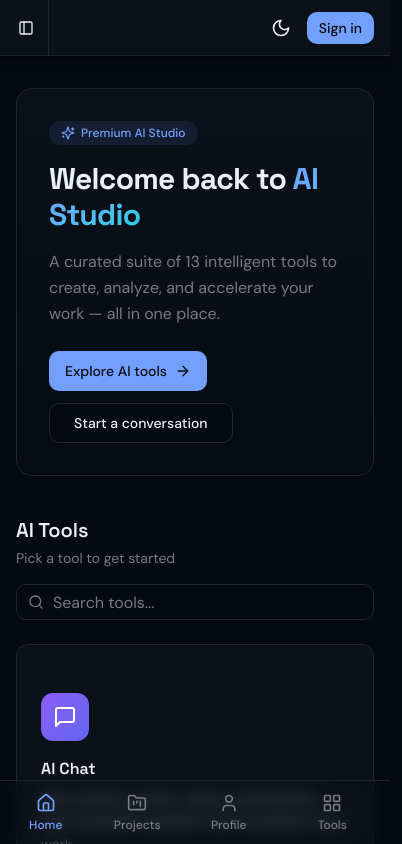
Scenario: Navigation › mobile bottom navigation reaches Home, Projects, and Profile
Expected: the navigation bar with test id "mobile_nav" is shown, [0, 780, 390, 843]
Click the link "Projects".
click(137, 812)  # box [114, 792, 161, 832]
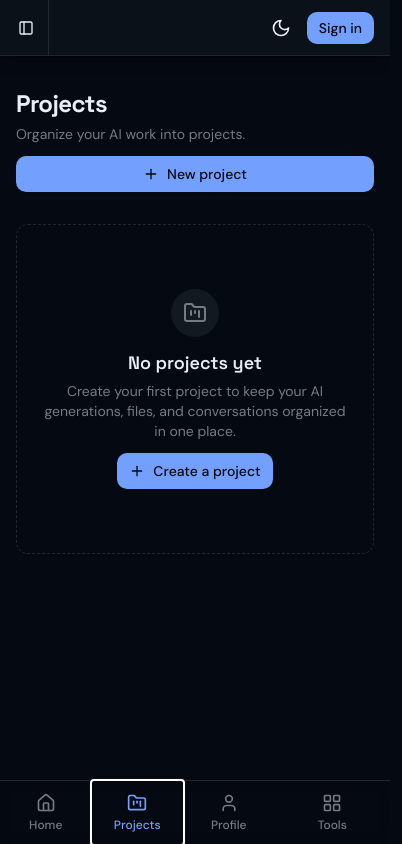
Result: the heading "Projects" is shown at [16, 88, 107, 119]
Click the link "Profile".
click(229, 812)  # box [211, 792, 246, 832]
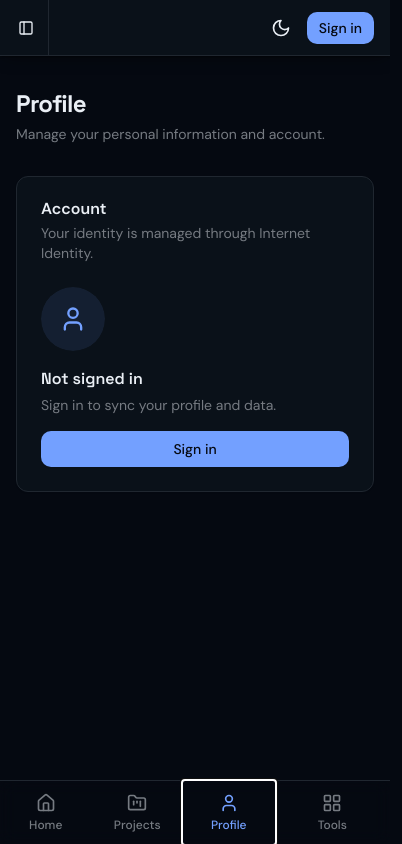
Result: the heading "Profile" is shown at [16, 88, 86, 119]
